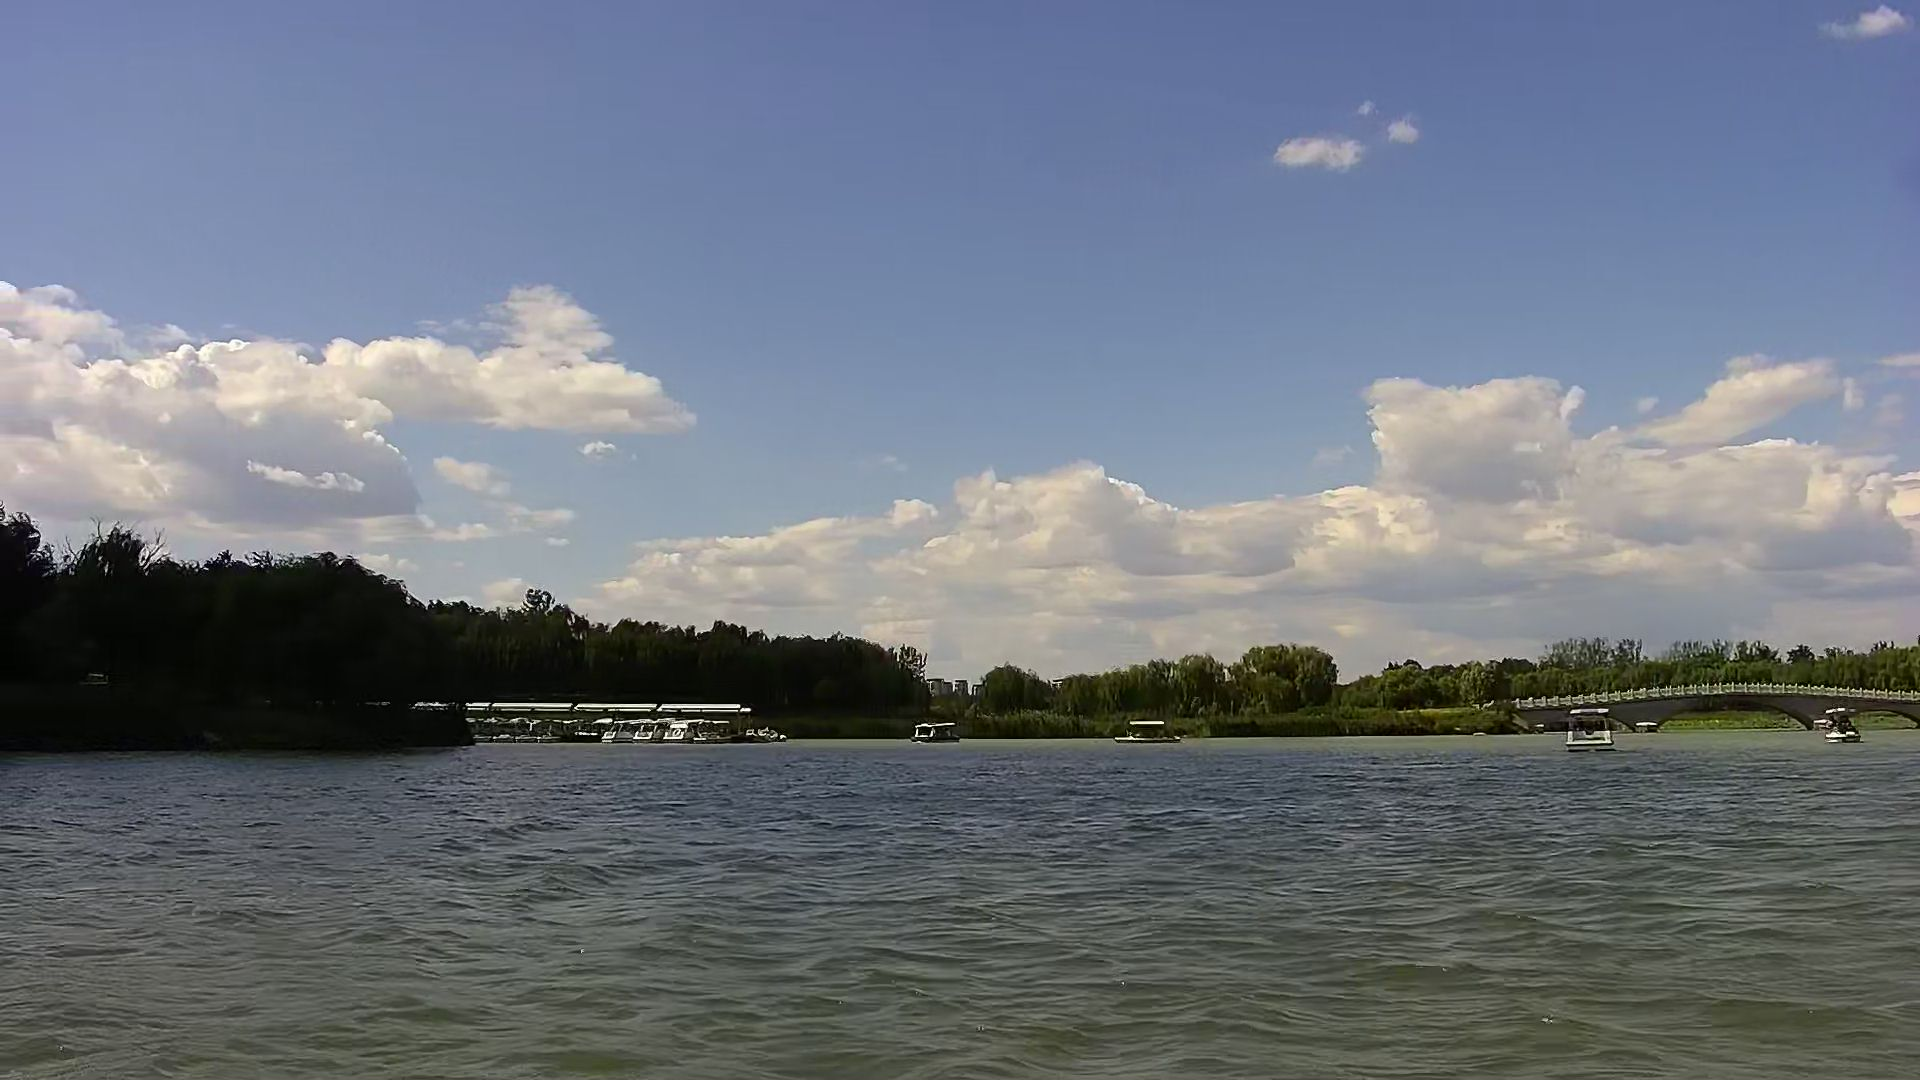boat: (1555, 698, 1631, 750), (671, 713, 742, 760), (1101, 713, 1189, 748), (1821, 700, 1865, 762), (899, 713, 980, 745), (601, 712, 644, 742), (637, 717, 669, 744)
bridge: (1513, 674, 1920, 727)
